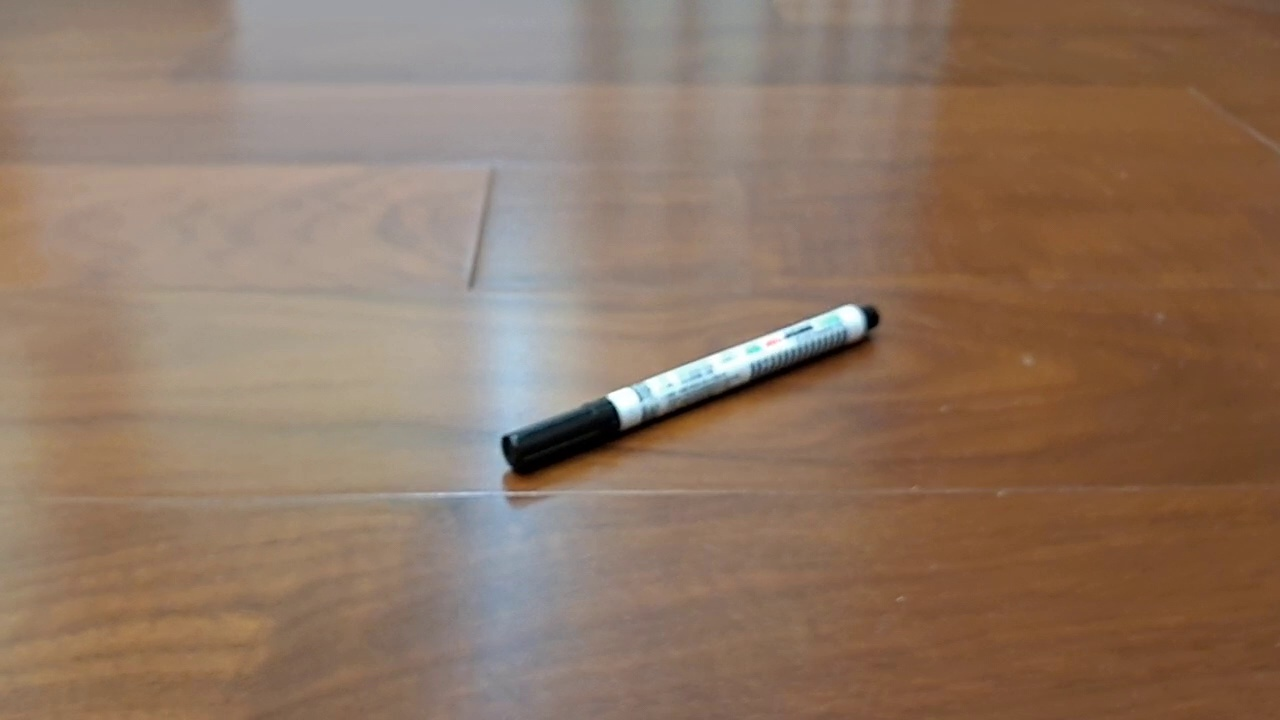pen: (501, 303, 880, 477)
